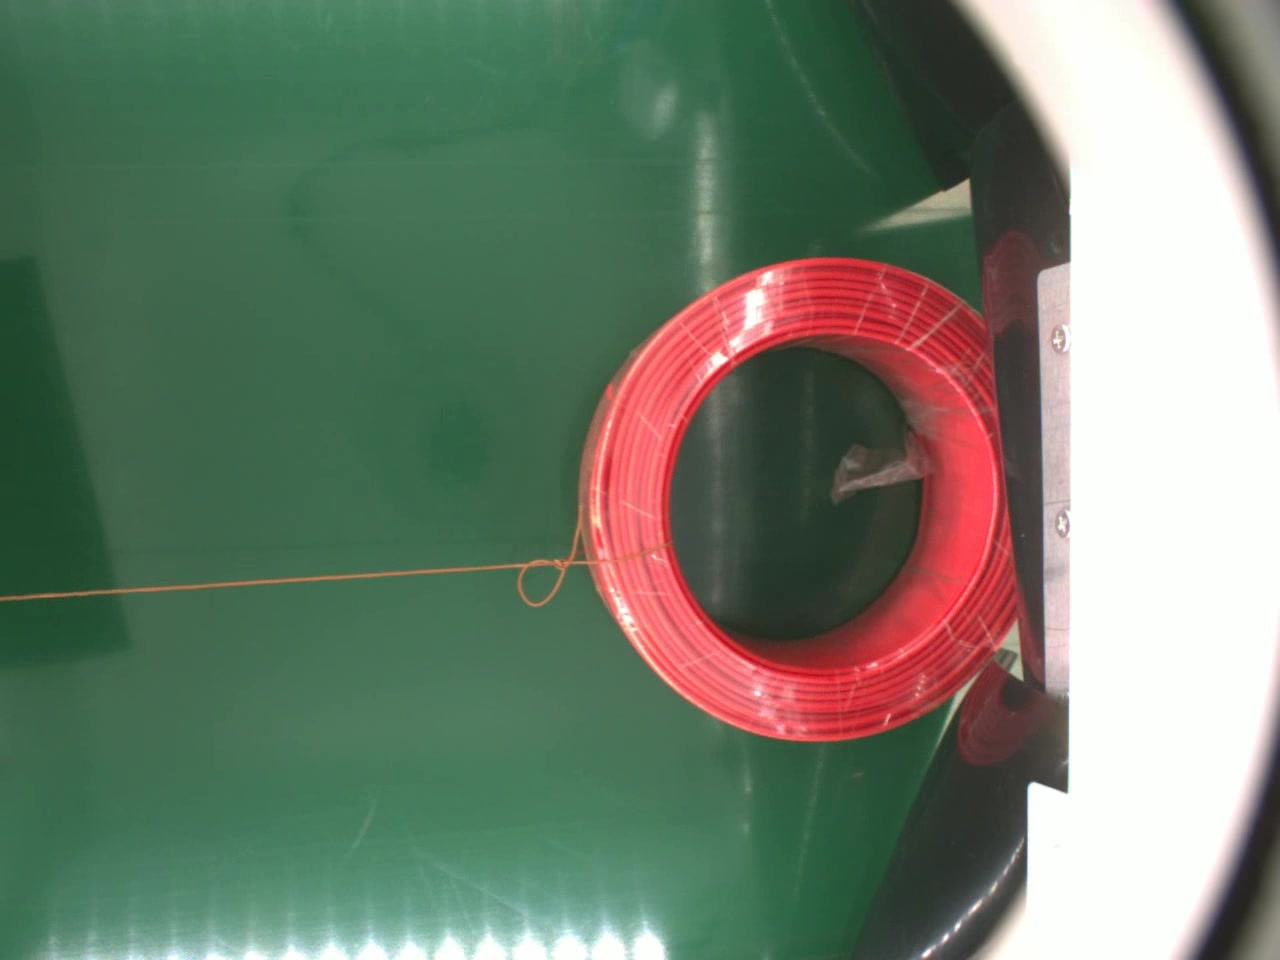red: (575, 255, 1028, 749)
